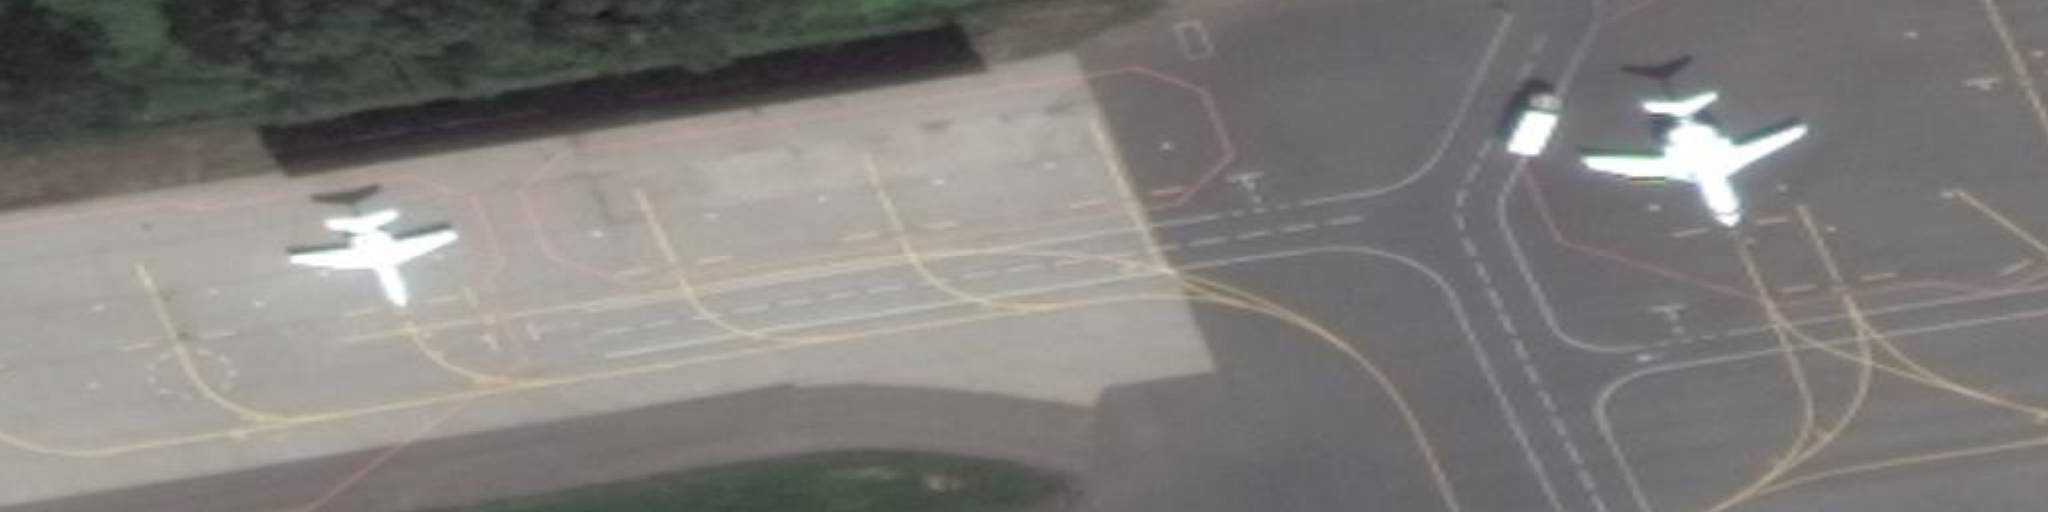plane: (1571, 74, 1831, 238), (287, 202, 472, 320)
small vehicle: (1503, 89, 1569, 161)
